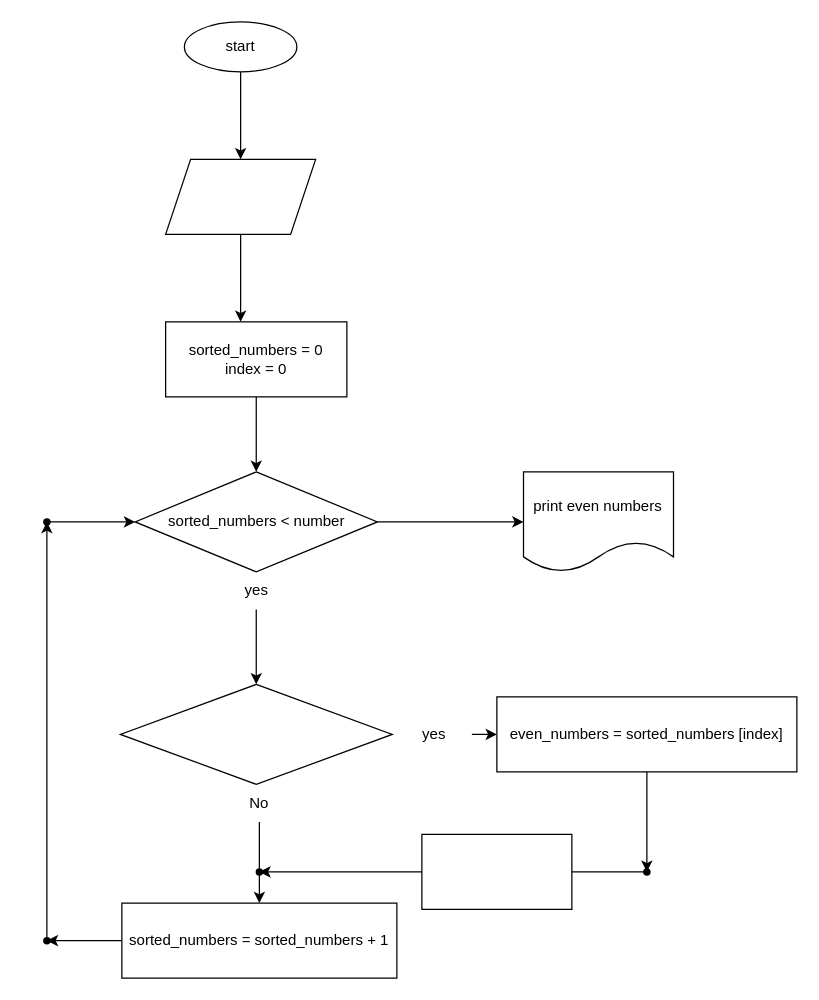
Some shapes in this 819 by 1000 pixel diagram are drawn without their labels. The box of each missing label's shape, as (x1, y1, x2, y2) in pixels:
index = index + 1: (421, 833, 572, 909)
number = N: (164, 158, 316, 234)
sorted_numbers % 2 == 0: (119, 683, 392, 784)
